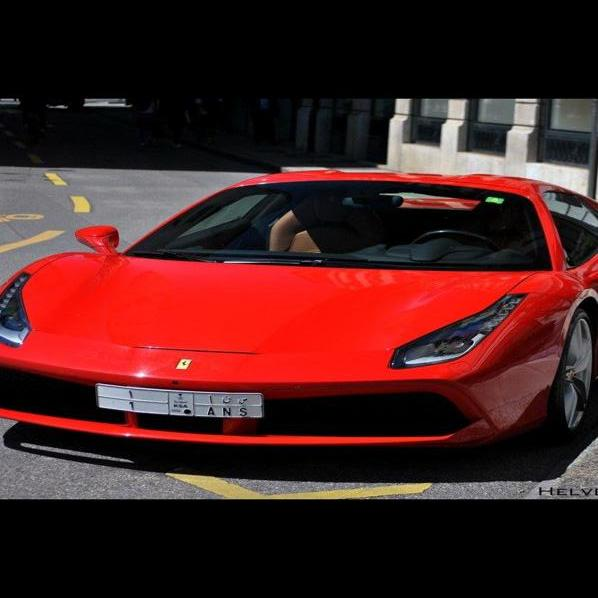numberplate: (93, 383, 267, 420)
